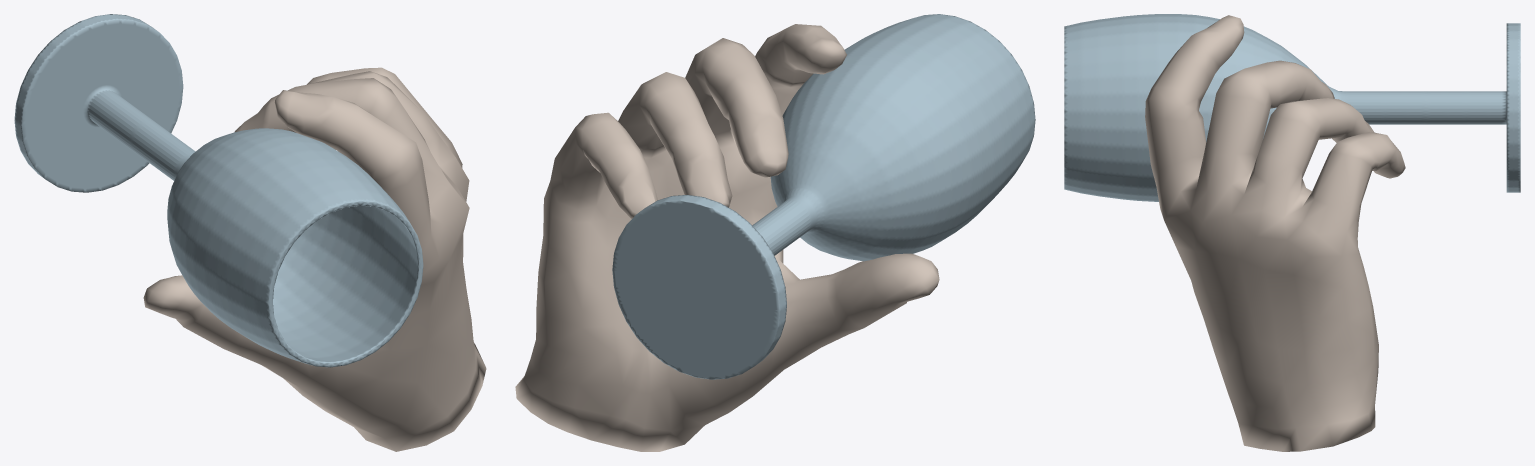
Rendered from ours_3.glb.
The picture shows the model from 3 angles, left to right: view 1: azimuth 30°, elevation 25°; view 2: azimuth 150°, elevation 25°; view 3: azimuth 270°, elevation 25°; orthographic projection. The views are drawn at different scales.
Bounding box in the file's own units: 0.146 × 0.1515 × 0.172.
